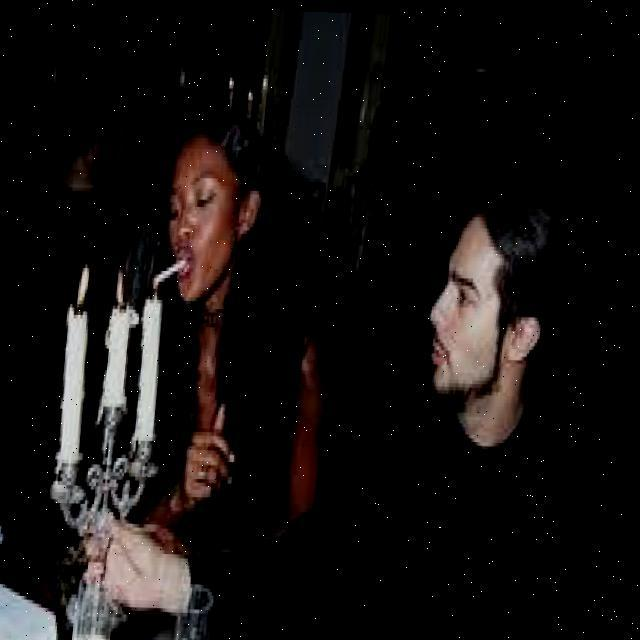Fire: (67, 252, 101, 307), (115, 261, 138, 305)
